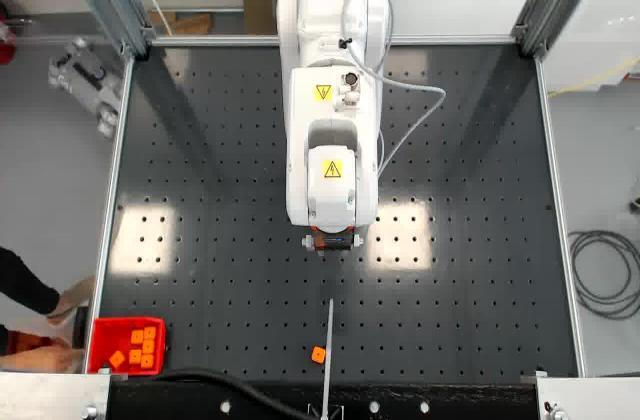cube: (312, 347, 326, 363)
